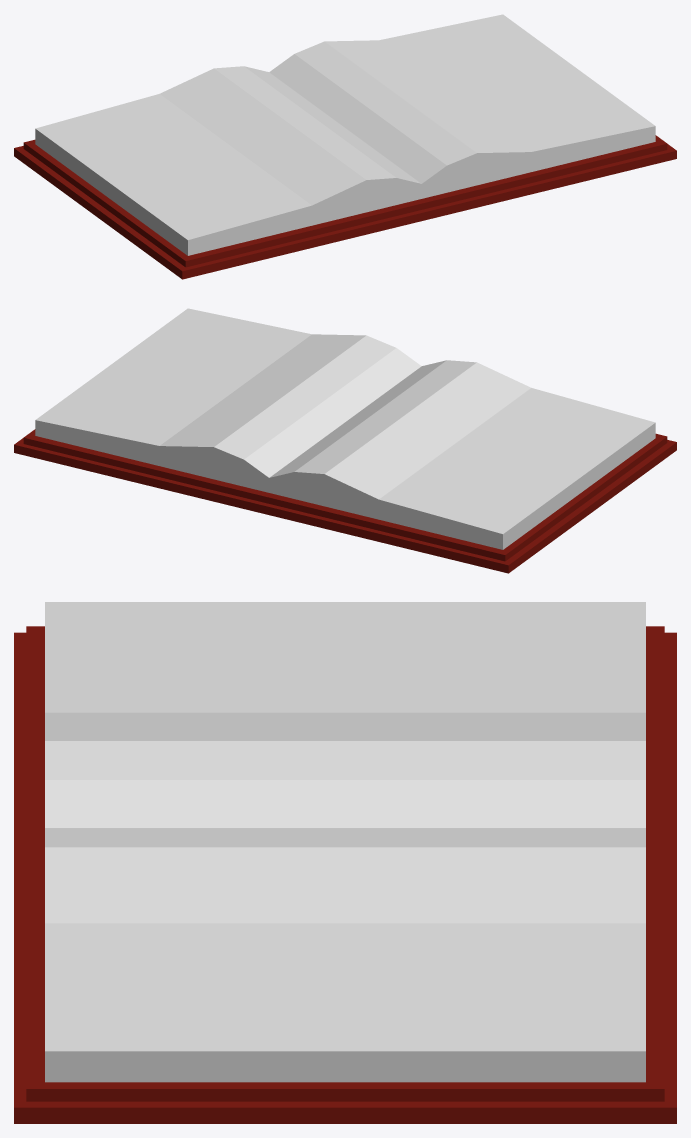
The model's file is book_open.glb.
3 renders of one model, top to bottom at view 1: azimuth 30°, elevation 25°; view 2: azimuth 150°, elevation 25°; view 3: azimuth 270°, elevation 25°, orthographic. The views are drawn at different scales.
Parts seen in each view (by area): view 1: Book (Open); view 2: Book (Open); view 3: Book (Open).
Boxes of the visible parts, x1,y1,x2,y2 form: Book (Open): (14, 14, 676, 279); Book (Open): (14, 308, 676, 573); Book (Open): (14, 602, 676, 1123).
Bounding box in the file's own units: 0.5656 × 0.0512 × 0.3336.
Materials: 1 (1 with a texture image).
